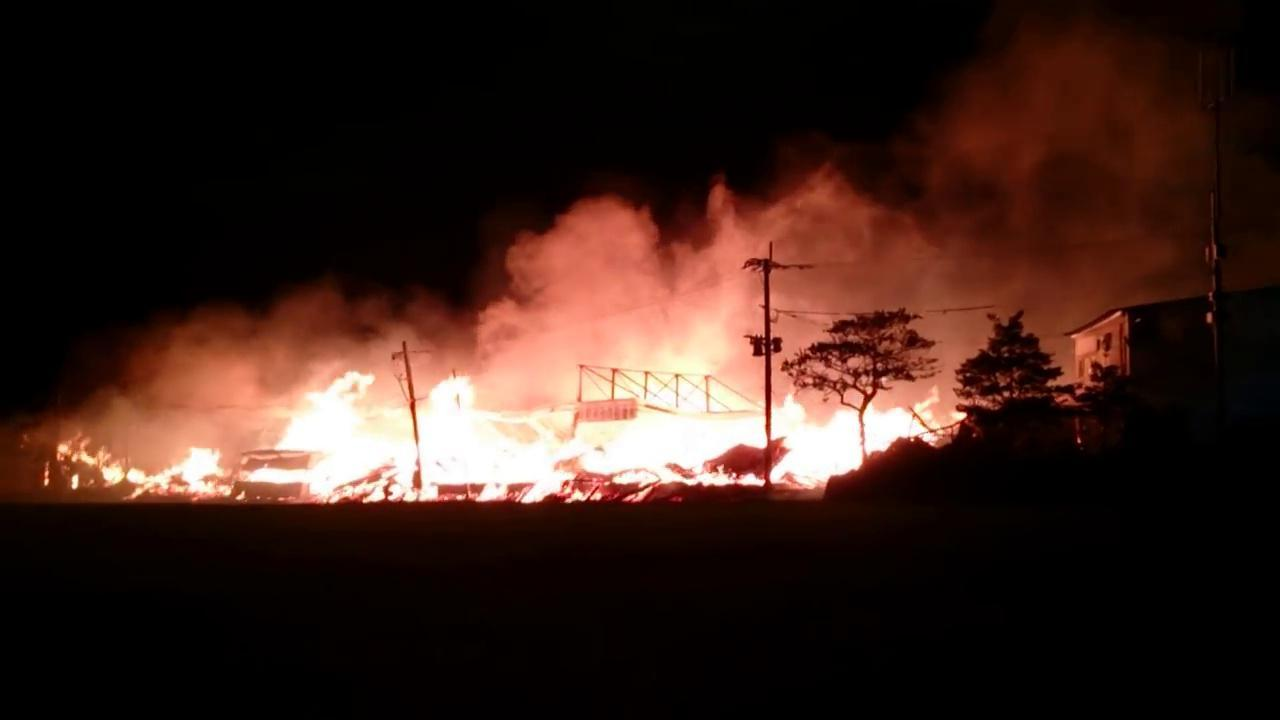Fire: (39, 376, 981, 496)
